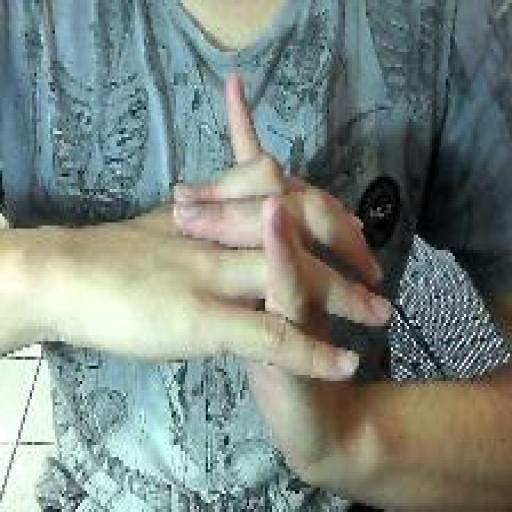Ushi -ox-: (169, 67, 396, 500)
